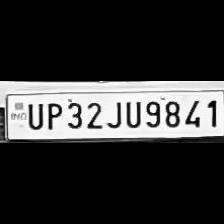1: (202, 96, 220, 128)
2: (82, 98, 104, 130)
3: (63, 98, 83, 130)
4: (182, 96, 202, 128)
8: (161, 96, 181, 128)
9: (142, 96, 162, 128)
J: (105, 97, 123, 129)
P: (43, 99, 63, 130)
U: (22, 99, 44, 129), (122, 97, 142, 128)
